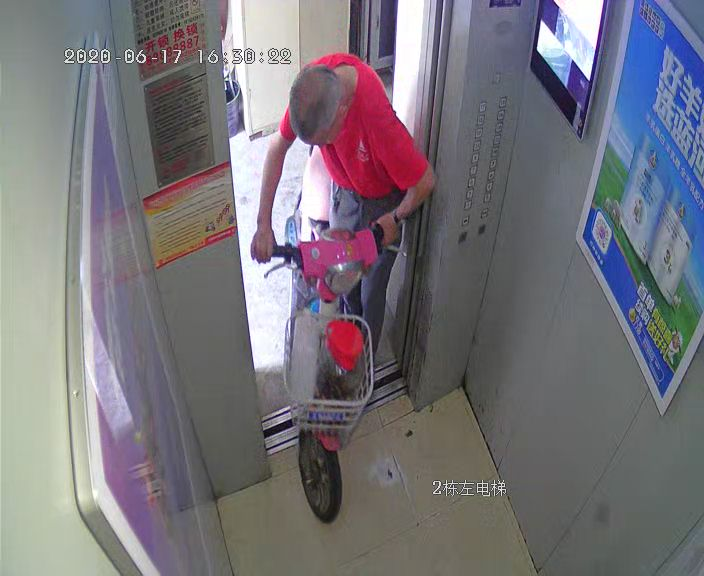Electric-bicycle: (262, 194, 387, 521)
